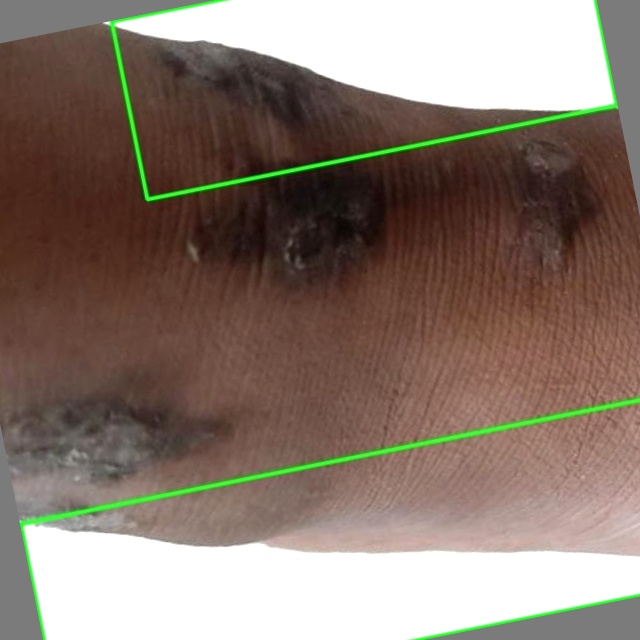Contact Dermatitis: (20, 400, 639, 639), (111, 0, 616, 199)
